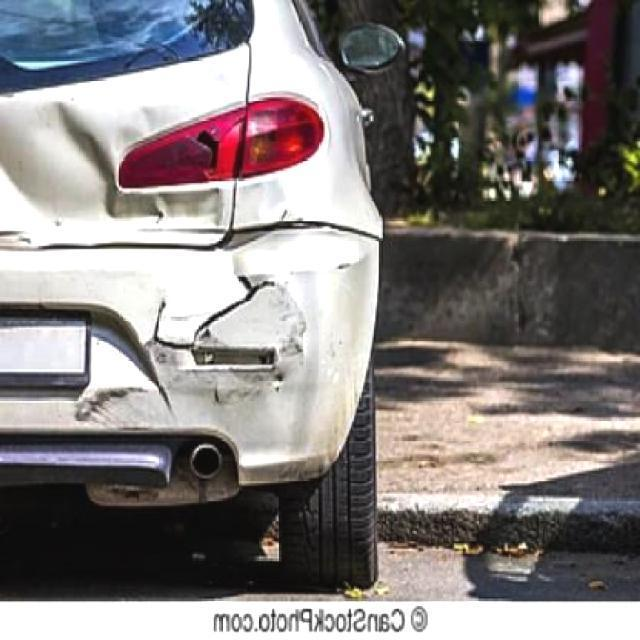minor: (57, 186, 225, 237)
moderate: (62, 225, 375, 491), (74, 348, 175, 431)
